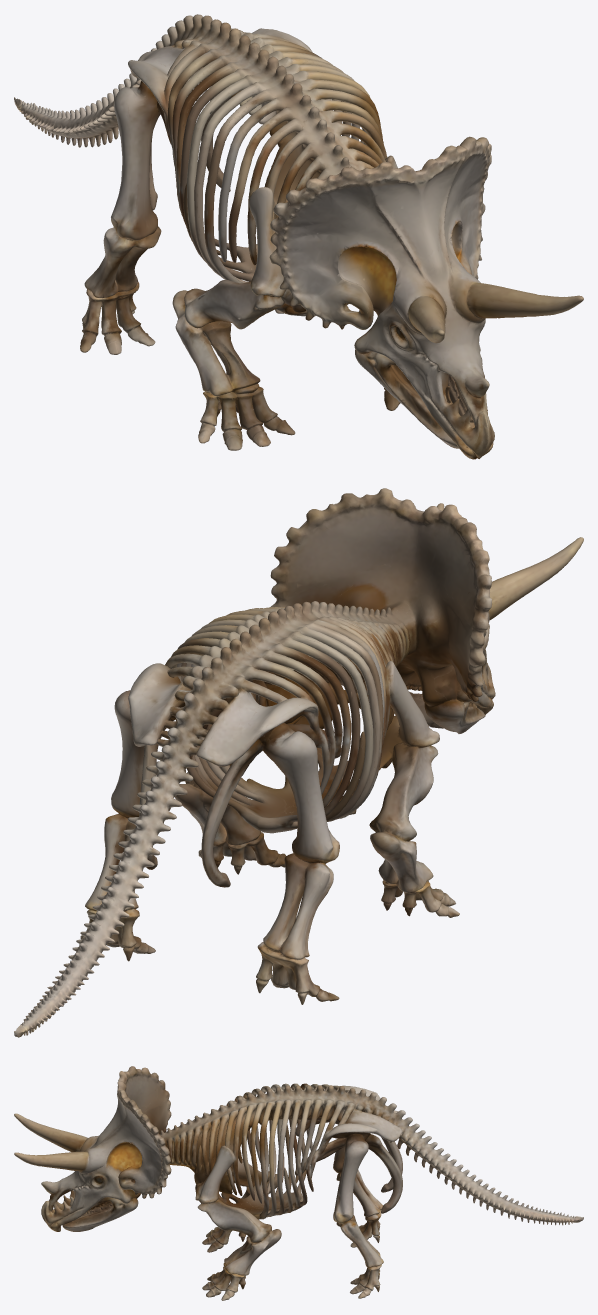
File: tri_bone.glb
3 renders of one model, top to bottom at view 1: azimuth 30°, elevation 25°; view 2: azimuth 150°, elevation 25°; view 3: azimuth 270°, elevation 25°, orthographic. The views are drawn at different scales.
Visible parts, largest first — view 1: node_0; view 2: node_0; view 3: node_0.
Boxes of the visible parts, box(x1,y1,x2,y2) form: node_0: box(14, 14, 583, 459); node_0: box(14, 488, 583, 1037); node_0: box(14, 1066, 583, 1300).
Bounding box in the file's own units: 0.3503 × 0.4193 × 1.17.
1 material, 1 textured.
